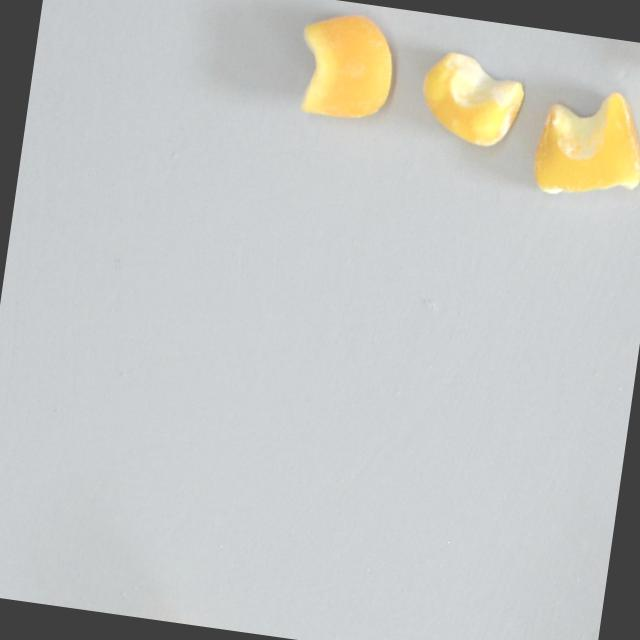dañado: (523, 78, 640, 211), (412, 41, 533, 154), (626, 40, 640, 77)
pelicula: (287, 3, 404, 130)
